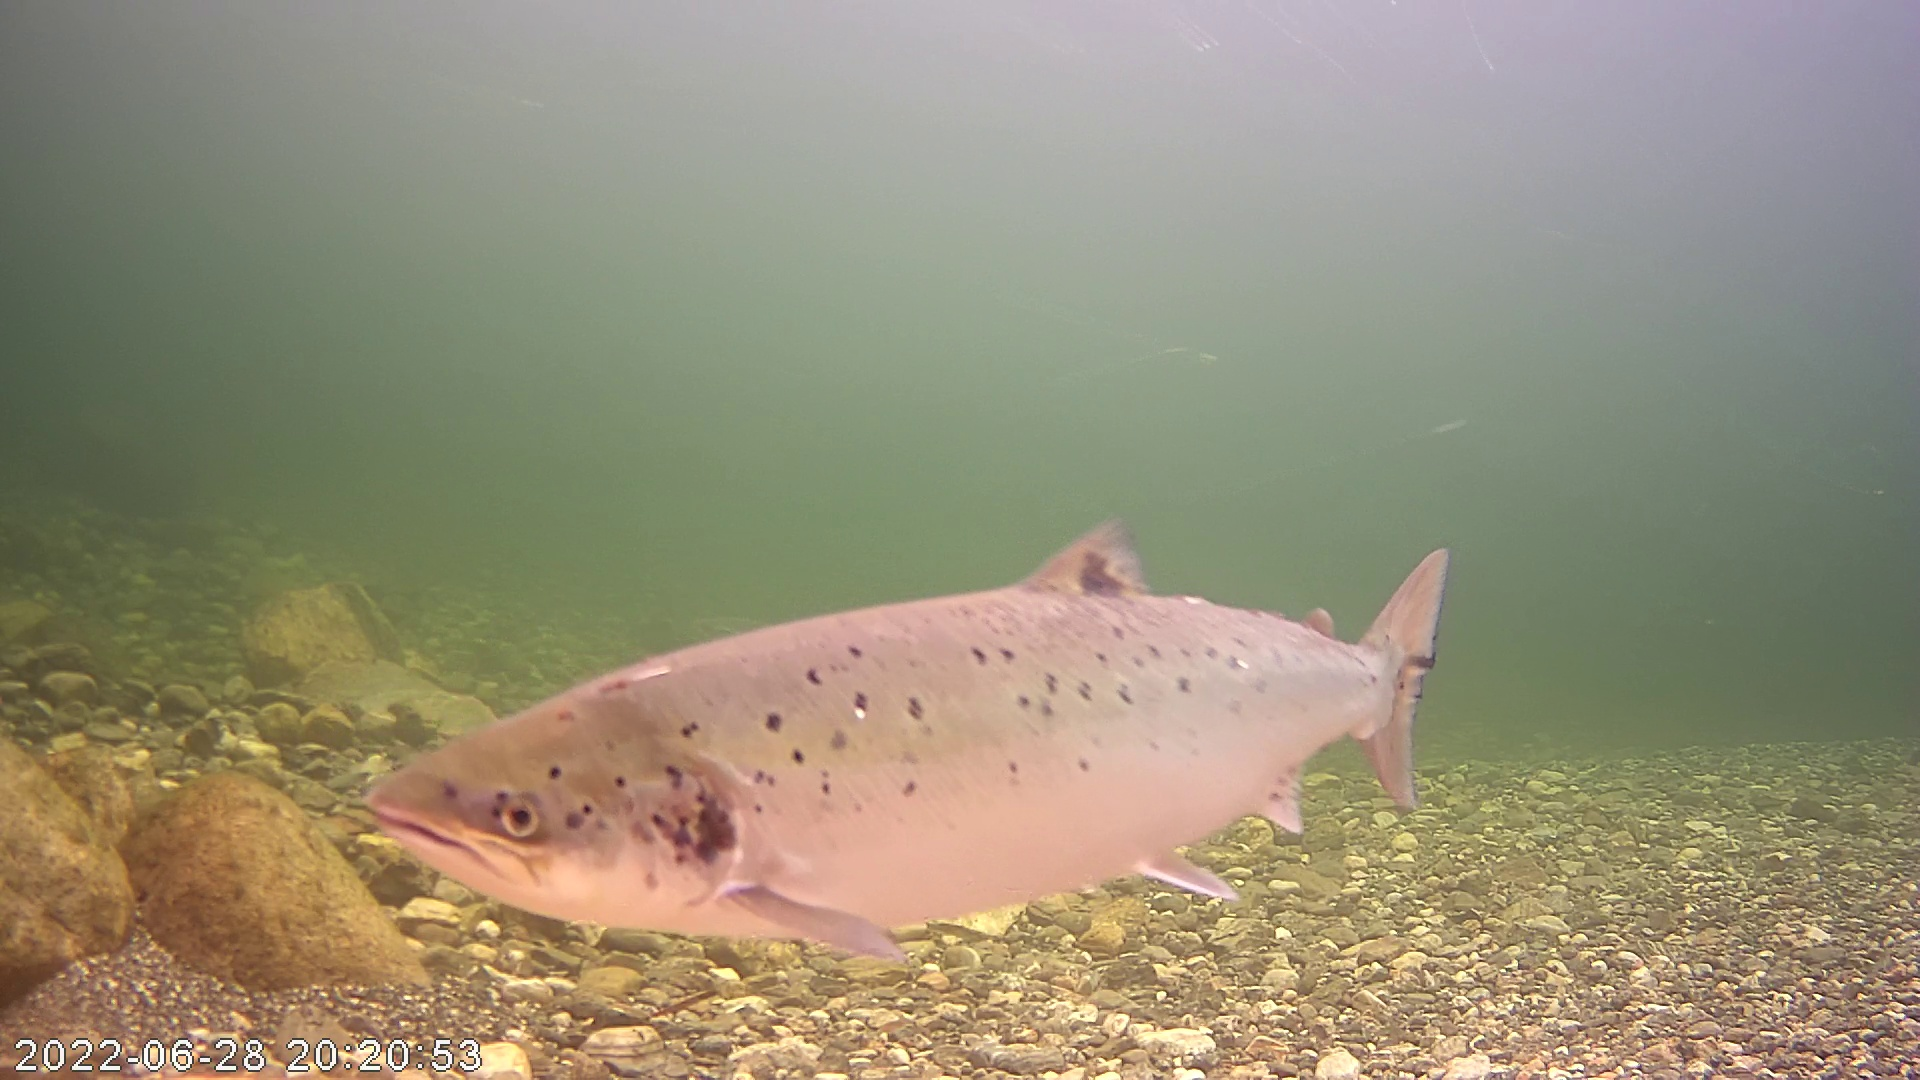salmon: (378, 469, 1455, 956)
